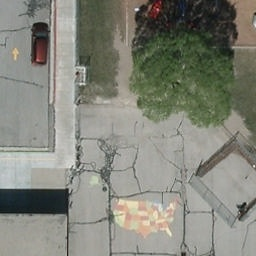car: (29, 22, 48, 66)
